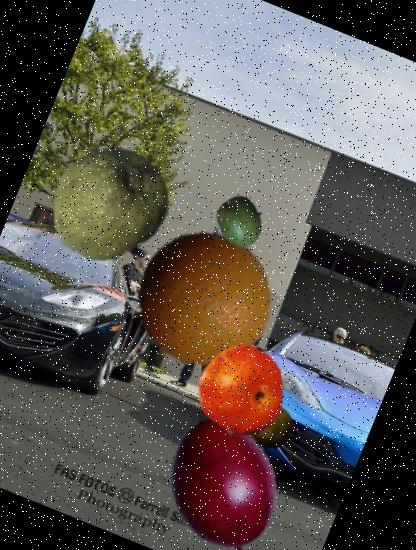Clementine: (178, 329, 303, 454)
Limes: (31, 128, 190, 287)
Mango: (207, 188, 276, 256)
Orange: (113, 206, 296, 388)
Papaya: (63, 151, 170, 258), (216, 375, 306, 465)
Tamarillo: (128, 394, 321, 550)
